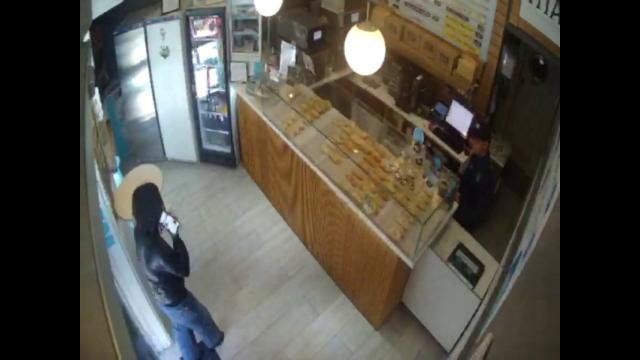cliente: (132, 180, 224, 360)
empleado: (452, 123, 496, 220)
